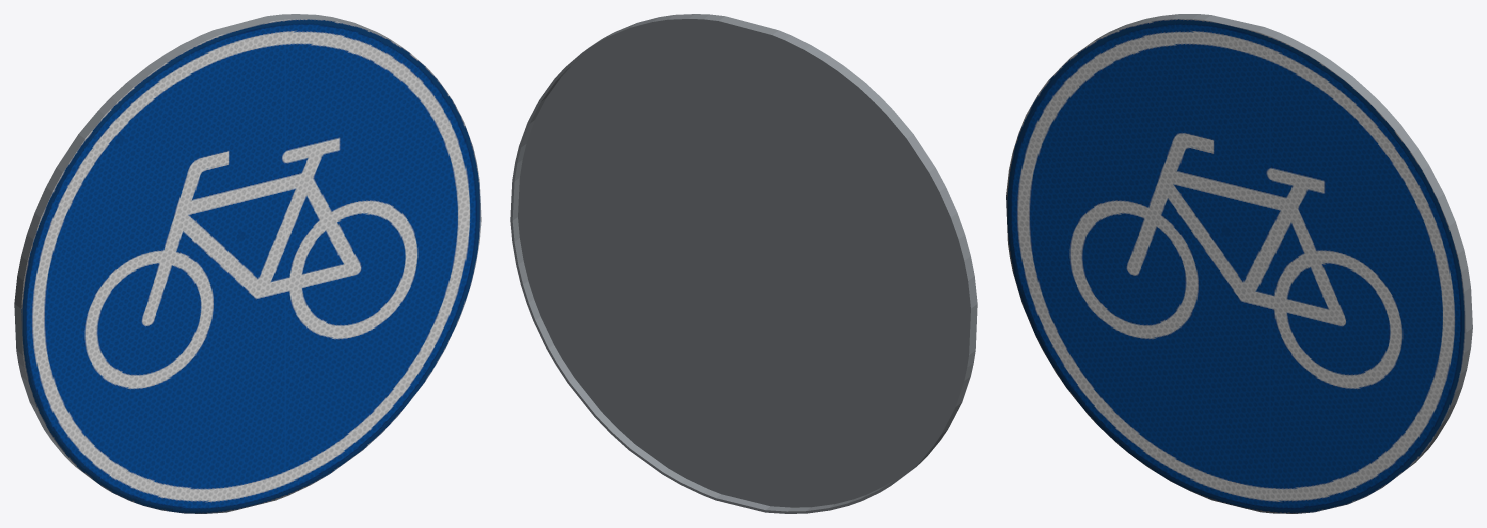
3 renders of one model, left to right at view 1: azimuth 30°, elevation 25°; view 2: azimuth 150°, elevation 25°; view 3: azimuth 330°, elevation 25°, orthographic.
Visible parts, largest first — view 1: cat_5f28736be1164ad0; view 2: cat_5f28736be1164ad0; view 3: cat_5f28736be1164ad0.
Boxes of the visible parts, box(x1,y1,x2,y2) form: cat_5f28736be1164ad0: box(14, 14, 481, 513); cat_5f28736be1164ad0: box(510, 14, 977, 513); cat_5f28736be1164ad0: box(1006, 14, 1472, 513).
Bounding box in the file's own units: 0.6 × 0.015 × 0.5975.
Materials: 2 (1 with a texture image).
